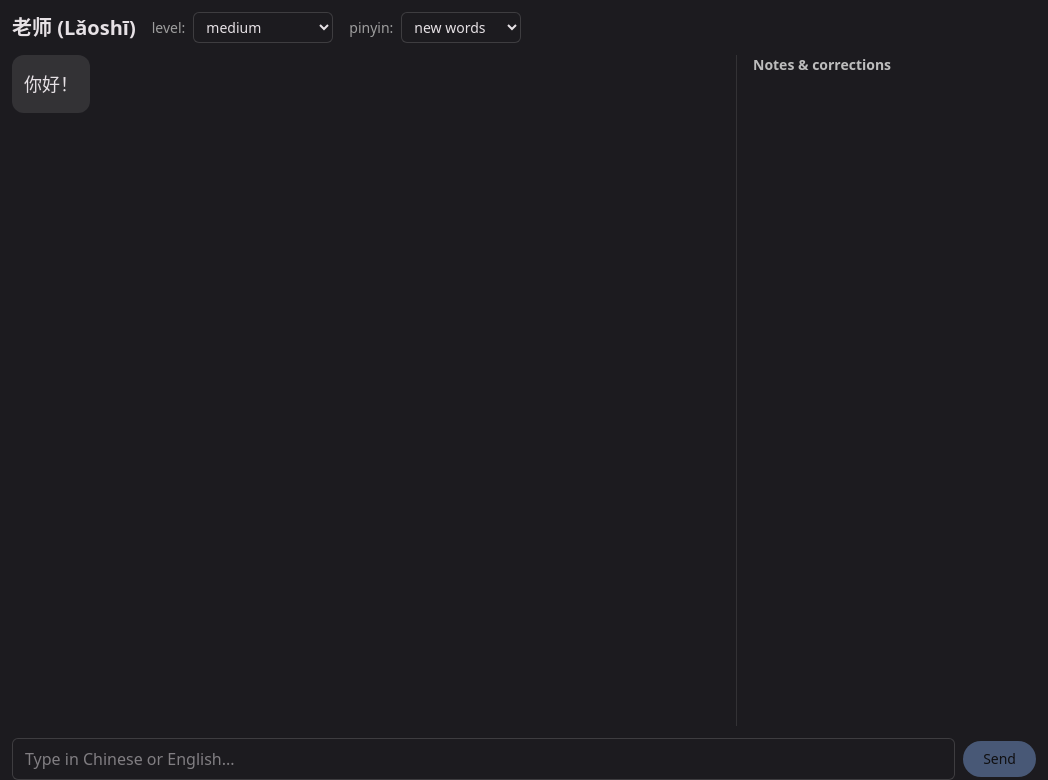
Test: Chat › restores the text and shows the error when sending fails
In the field with placeholder "Type in Chinese or English...": (484, 759) [12,738,955,779], type "你好吗"
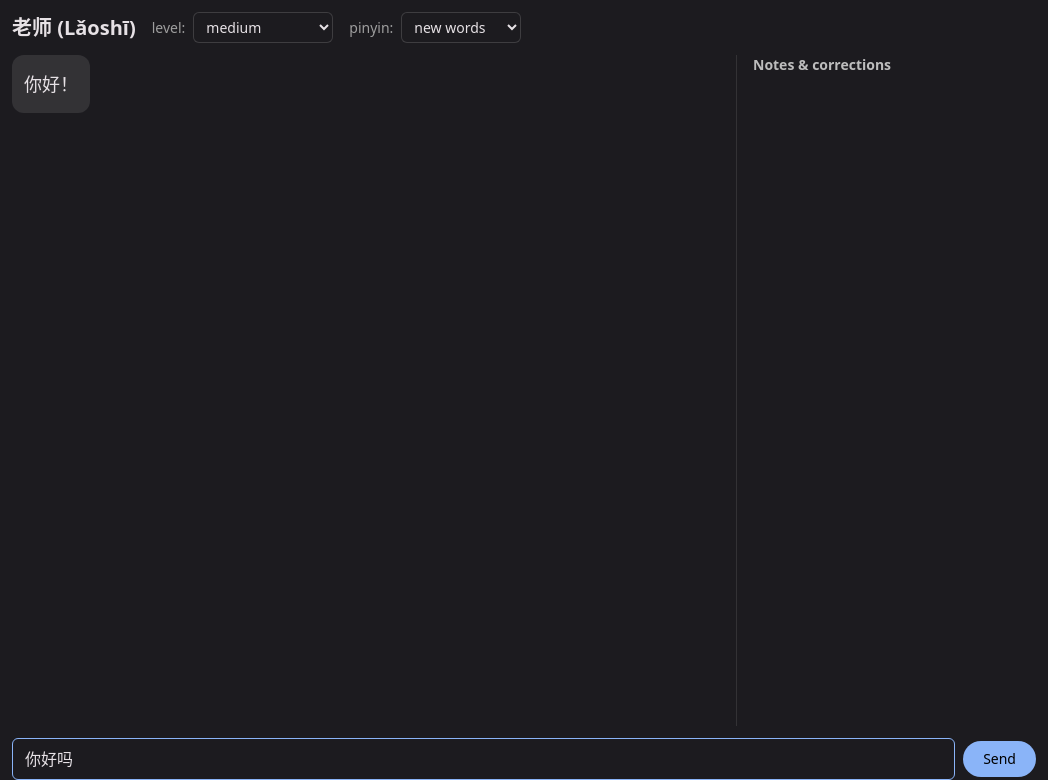
Press Enter
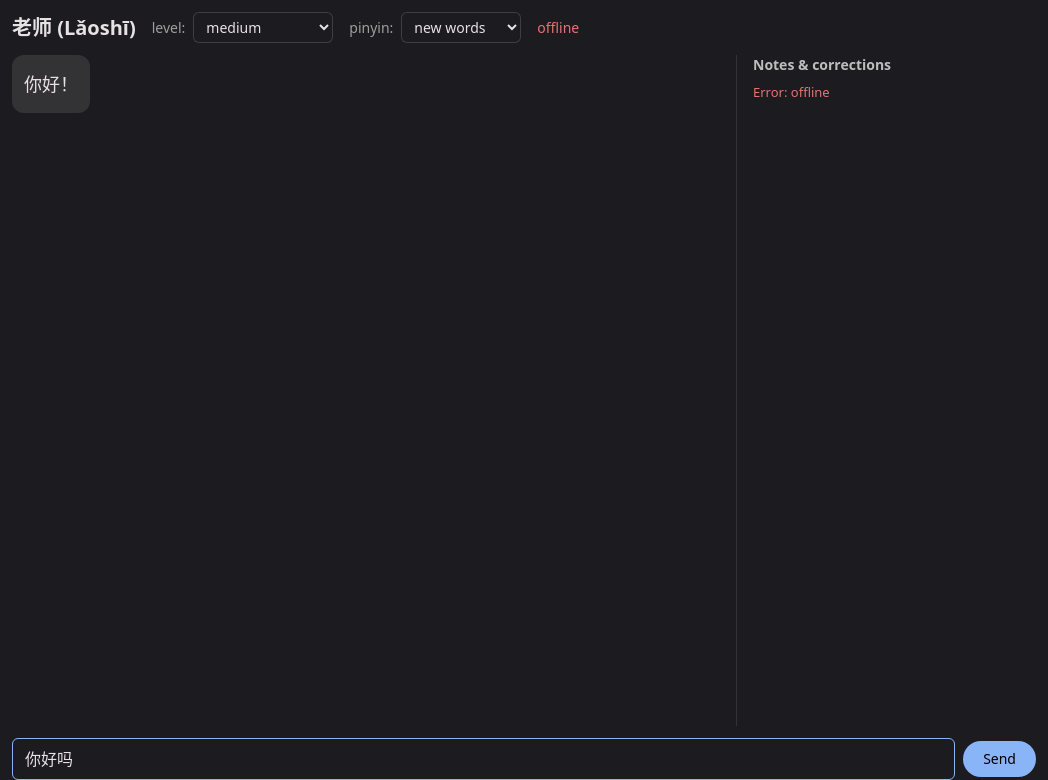
expect the text "Error: offline" is shown: met, box [753,83,830,101]
